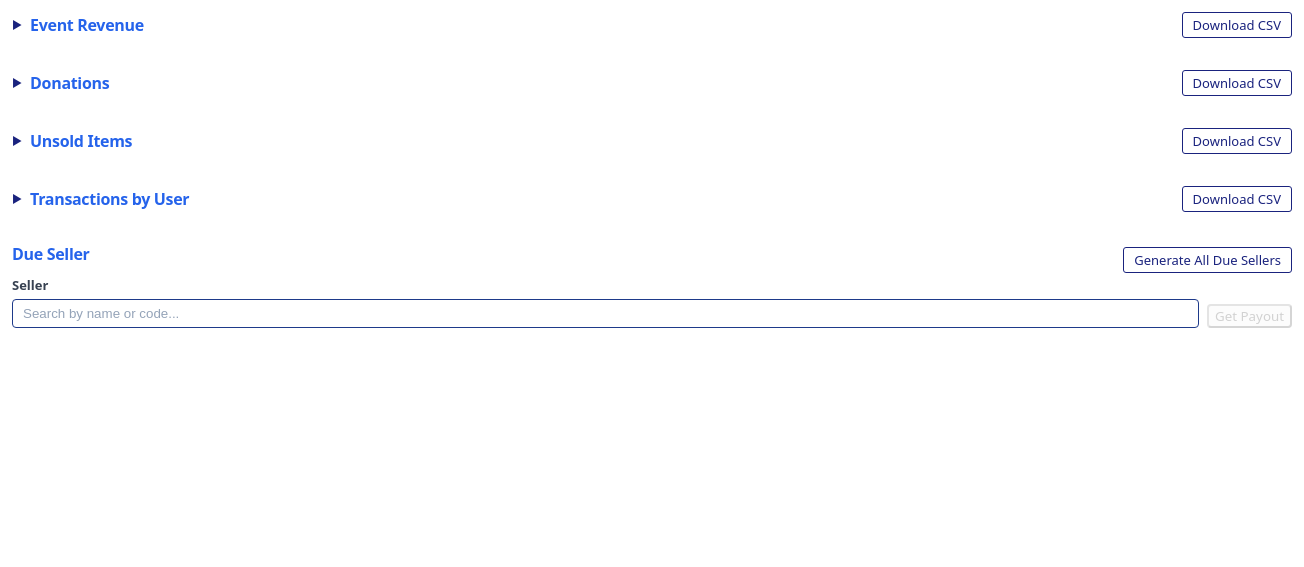
it: ReportsPage — collapsible sections › collapses section when header is clicked a second time
The width and height of the screenshot is (1304, 567).
Click the heading "Event Revenue" at {"x": 87, "y": 25}, box [30,15,144,35]
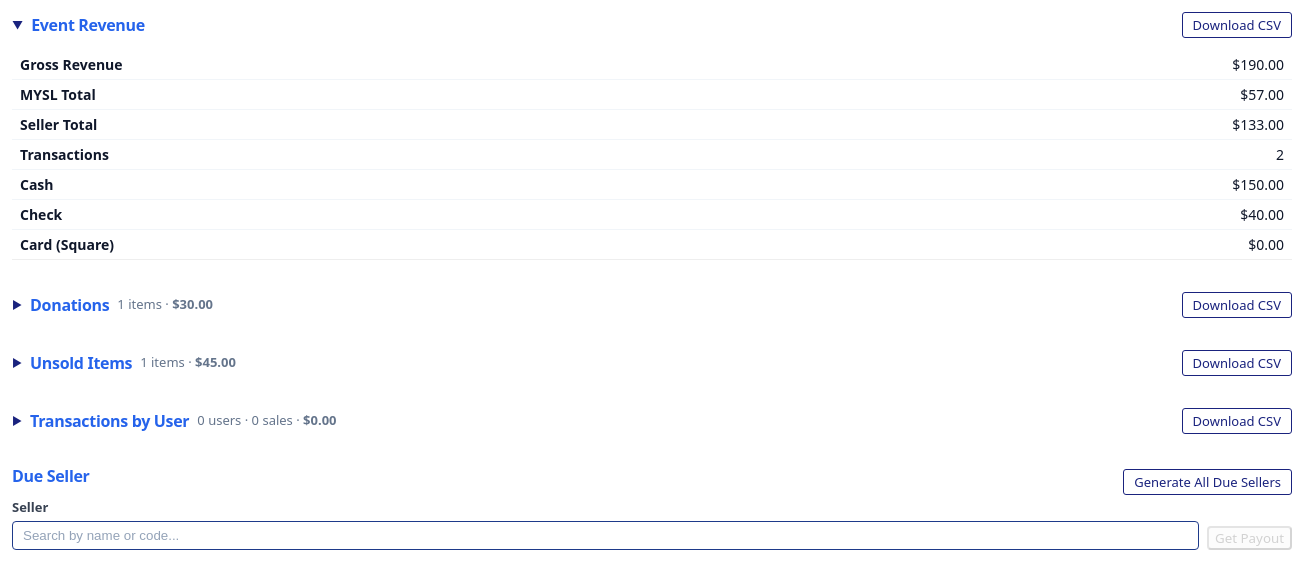
Now the text "MYSL Total" is shown, box [12,80,846,110]
Click the heading "Event Revenue" at {"x": 88, "y": 25}, box [31,15,145,35]
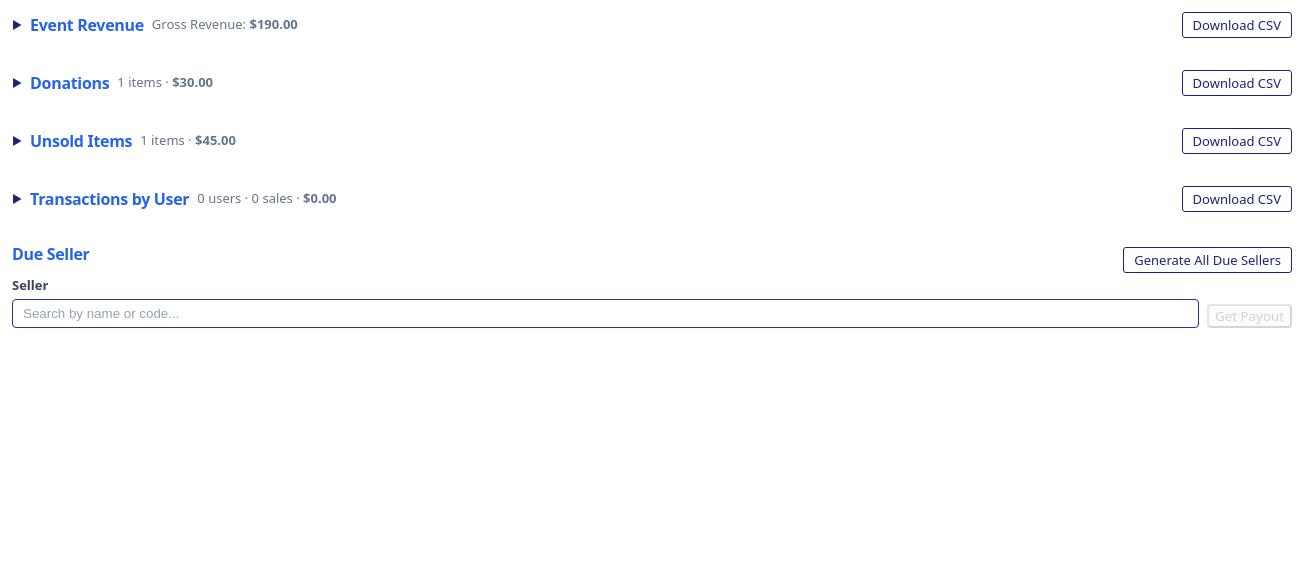
Now the text "MYSL Total" is gone
